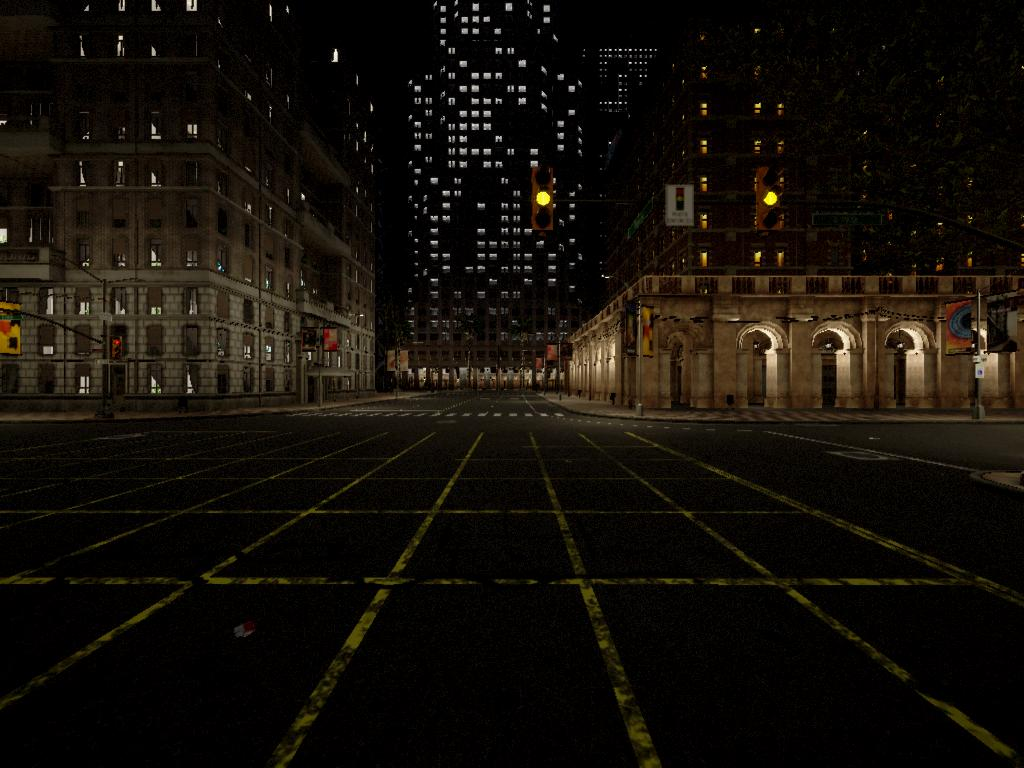traffic_light: (756, 166, 785, 233), (532, 167, 556, 231), (110, 327, 125, 360)
